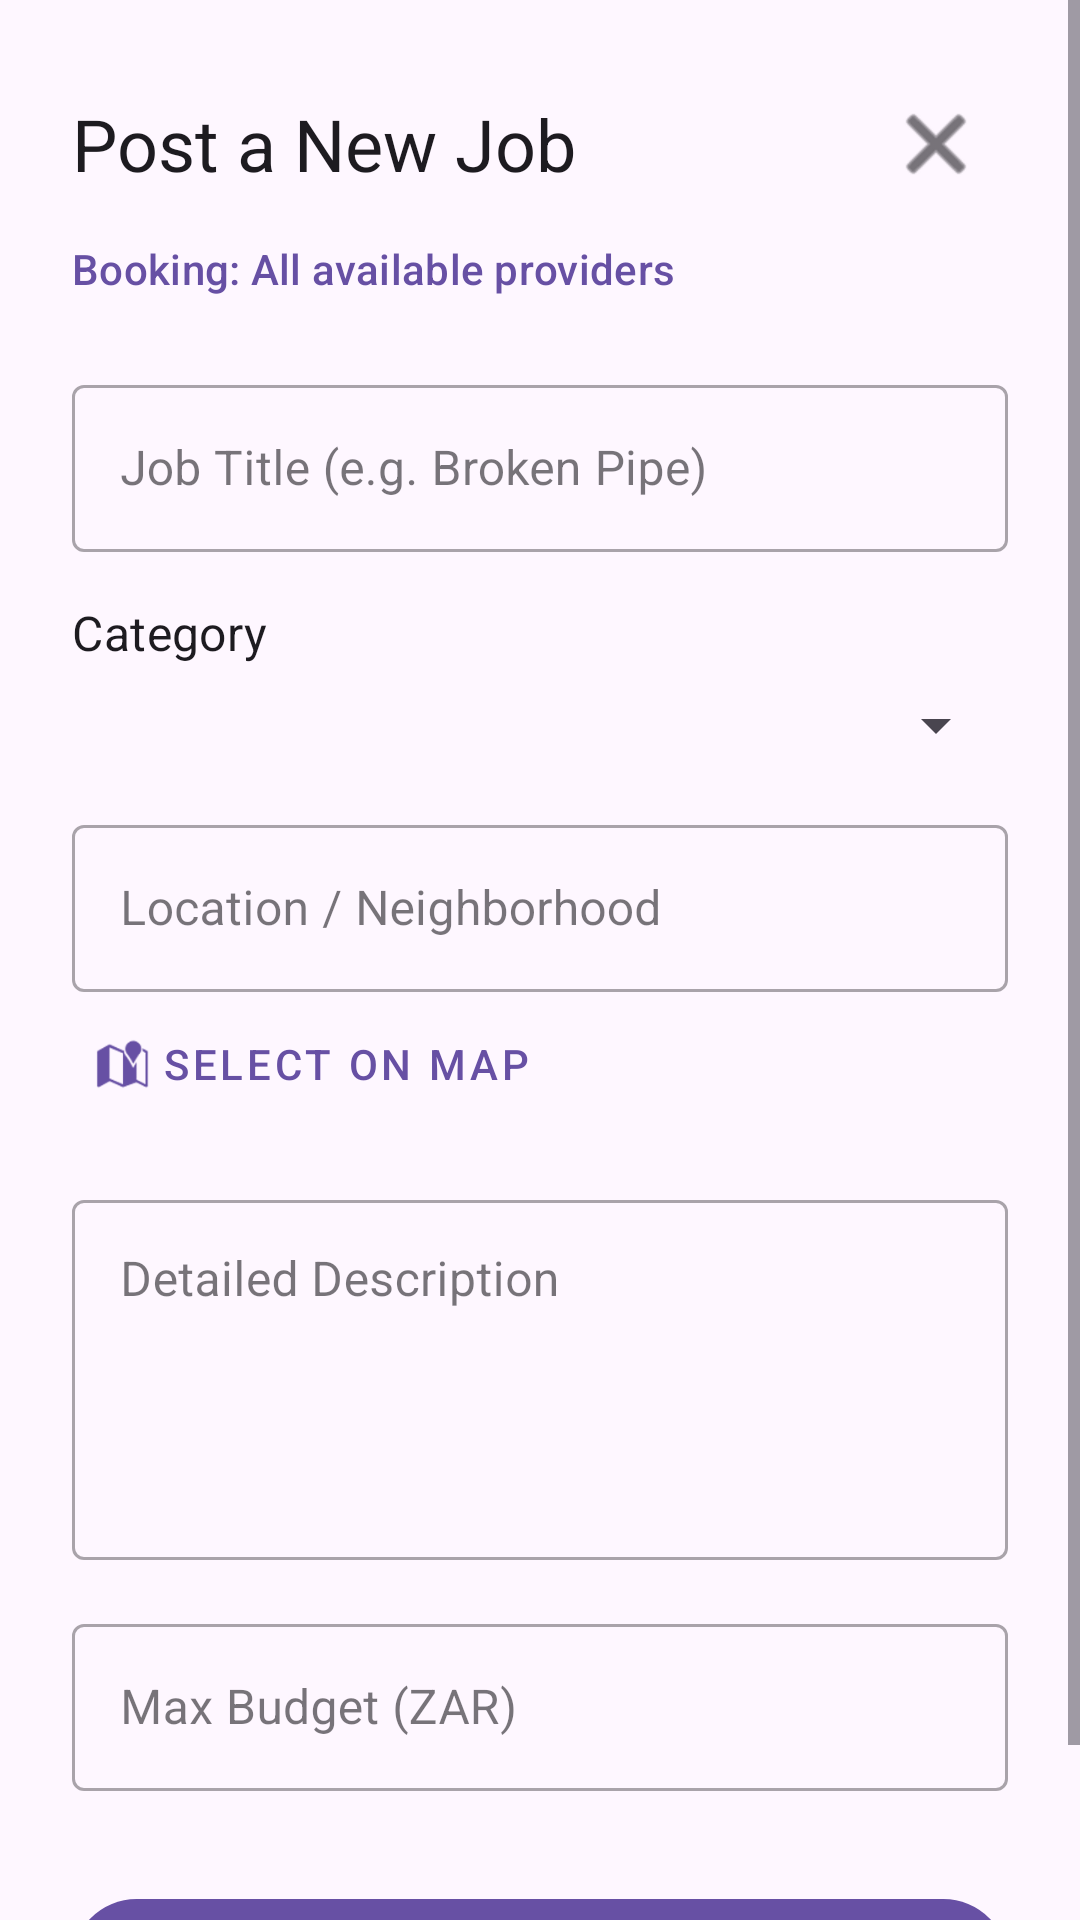

Named icons in this screenshot (1080 x 1920) and their centers, [x,y]:
Close: [936,144]
